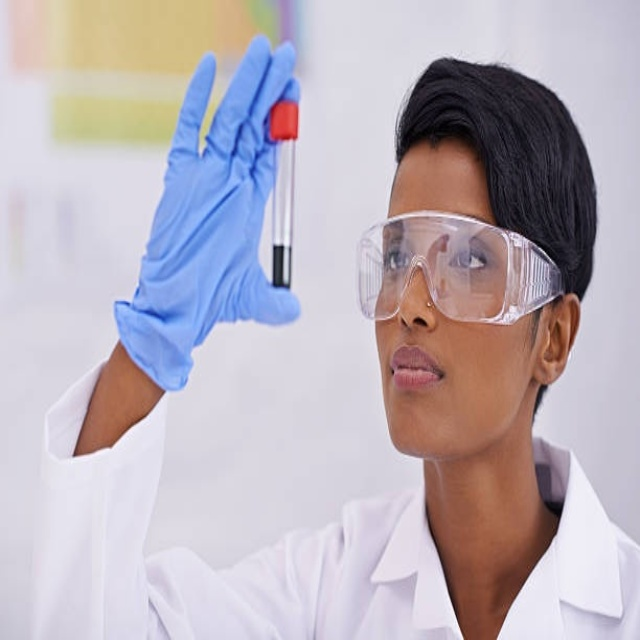Gafas: (353, 214, 562, 325)
Guantes: (114, 35, 304, 394)
Sin_mascara: (381, 331, 460, 444)
